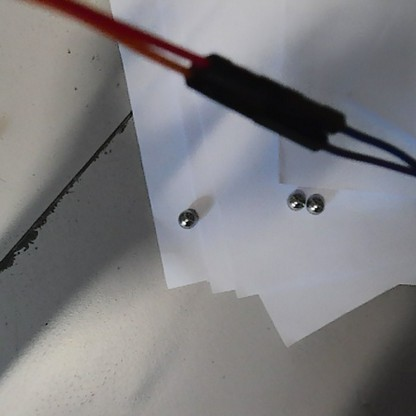ironball: (302, 188, 327, 217), (176, 207, 199, 232), (283, 185, 305, 210)
